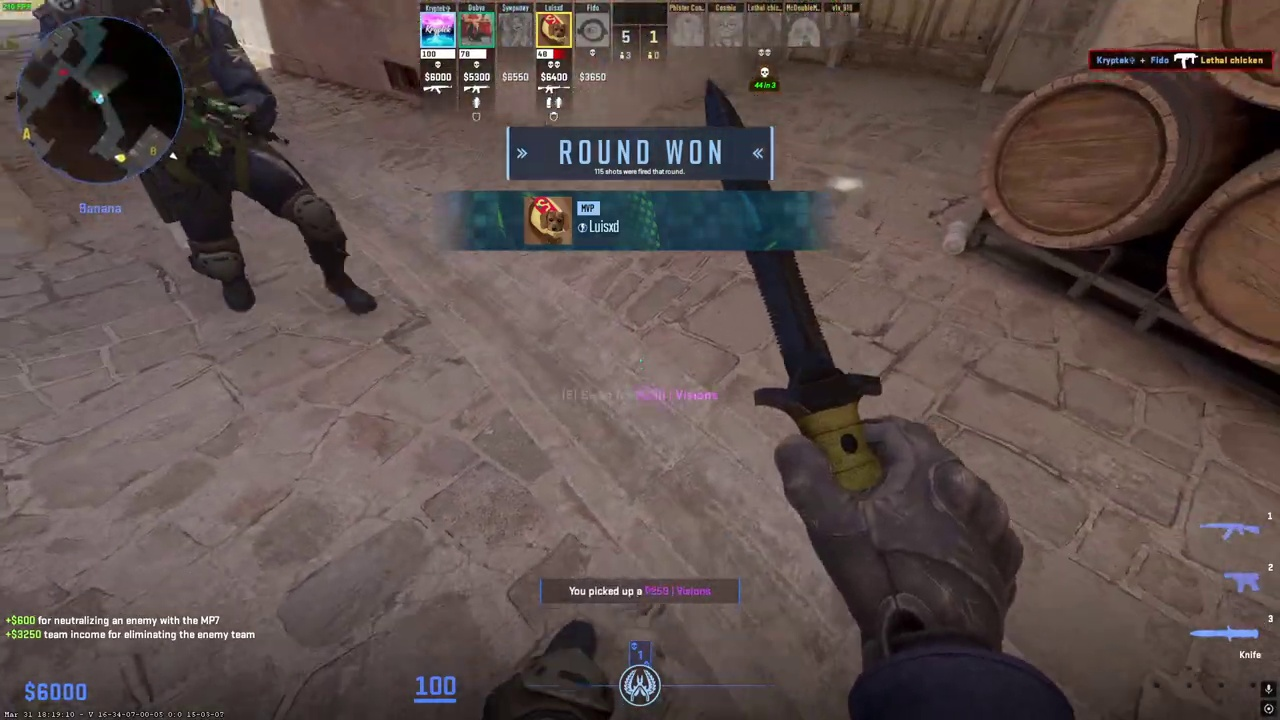CT: (81, 0, 344, 314)
